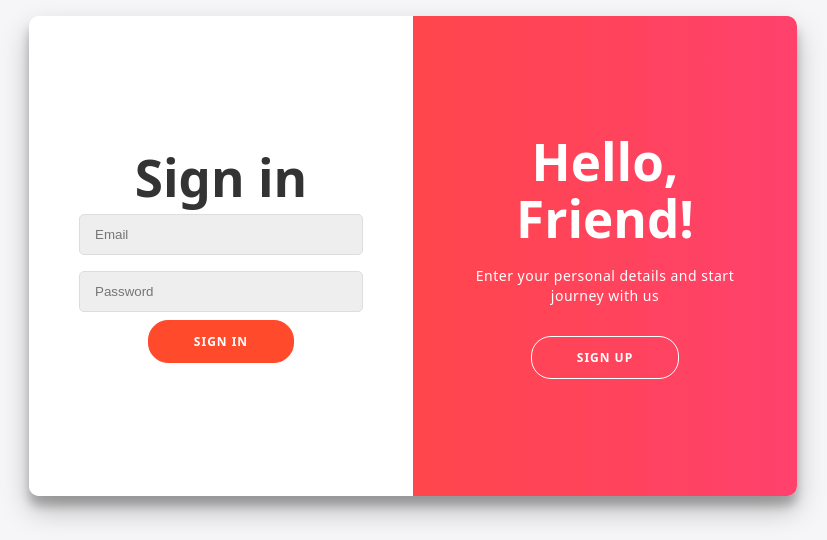
Test: Kiểm thử render và tương tác người dùng › IT-TC-A3: Chuyển sang panel Đăng ký
This screenshot has width=827, height=540.
Click the button with test id "toggle-signup" at (605, 357), box x1=531 y1=336 x2=679 y2=379
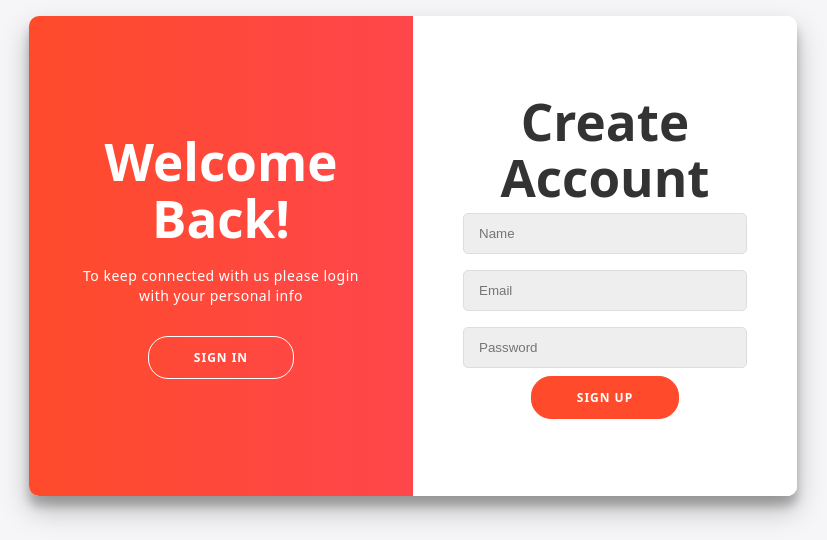
Check: the field with placeholder "Name" is shown, box x1=463 y1=213 x2=747 y2=254
